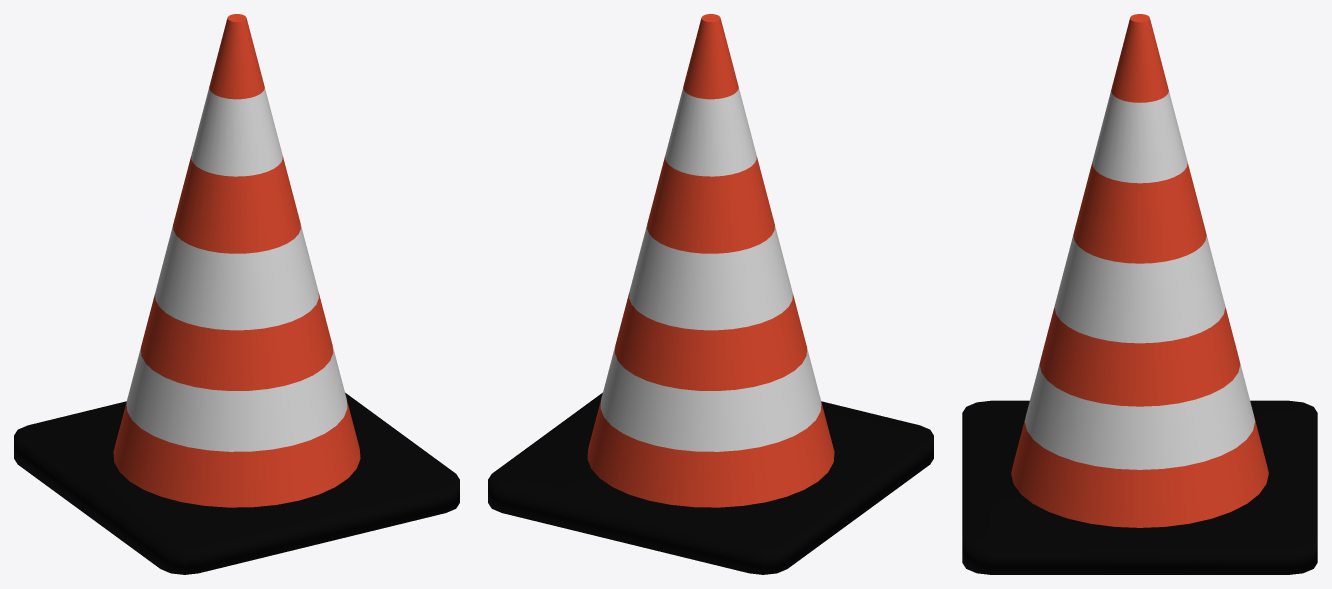
The model's file is KaleGhandi.fbx.
3 renders of one model, left to right at view 1: azimuth 30°, elevation 25°; view 2: azimuth 150°, elevation 25°; view 3: azimuth 270°, elevation 25°, orthographic. The views are drawn at different scales.
Parts seen in each view (by area): view 1: Cylinder, Cube; view 2: Cylinder, Cube; view 3: Cylinder, Cube.
Boxes of the visible parts, x1=… form: Cylinder: x1=113, y1=14, x2=360, y2=507; Cube: x1=14, y1=392, x2=459, y2=574; Cylinder: x1=587, y1=14, x2=834, y2=507; Cube: x1=488, y1=392, x2=933, y2=574; Cylinder: x1=1011, y1=14, x2=1268, y2=527; Cube: x1=962, y1=400, x2=1317, y2=574.
Size of the model in its own units: 175 by 264 by 175.
